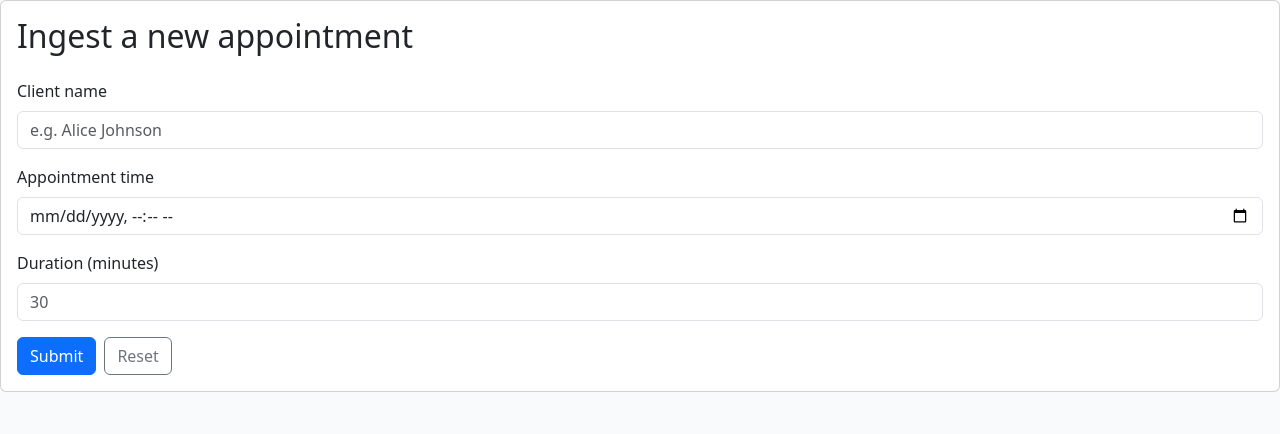
Test: IngestAppointmentForm › GIVEN appointment time less than five minutes away WHEN submit THEN show time error
Type "Near Future" into the field labelled "Client name" at (640, 130), box [17, 111, 1263, 149]
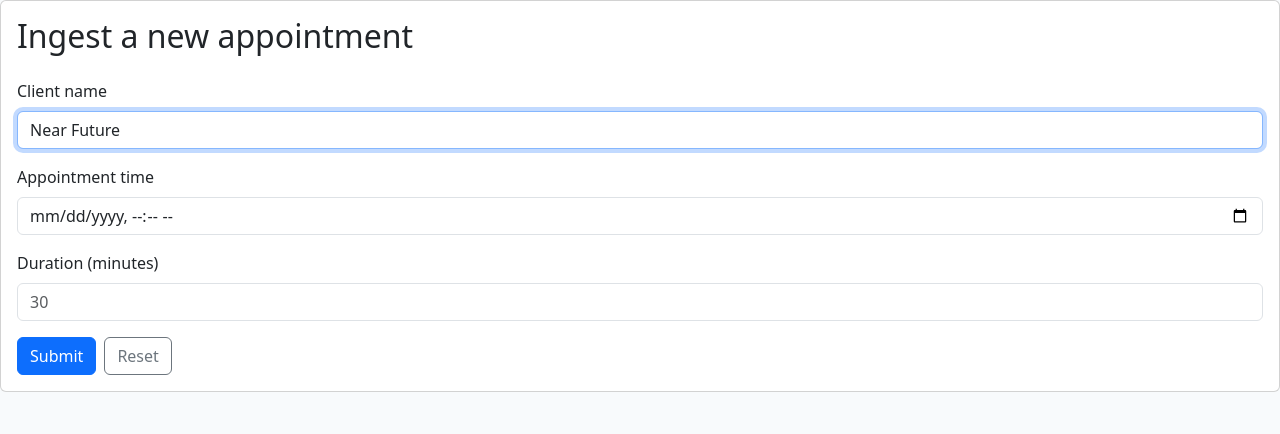
Type "2025-02-01T10:04" into the field labelled "Appointment time" at (640, 216), box [17, 197, 1263, 235]
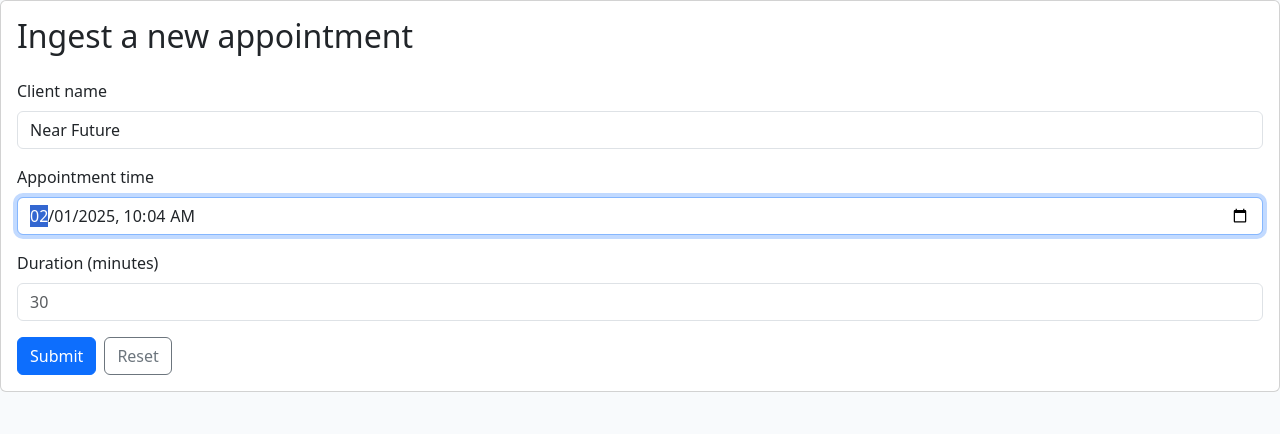
Click the button "Submit" at (57, 356), box [17, 337, 96, 375]
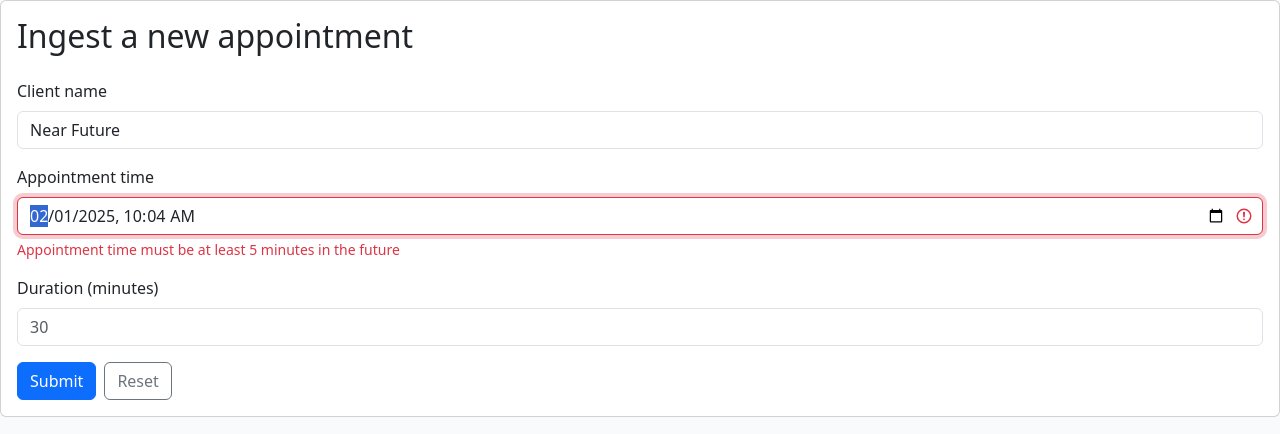
Check: the text "Appointment time must be at least 5 minutes in the future" is shown, box [17, 240, 400, 259]
